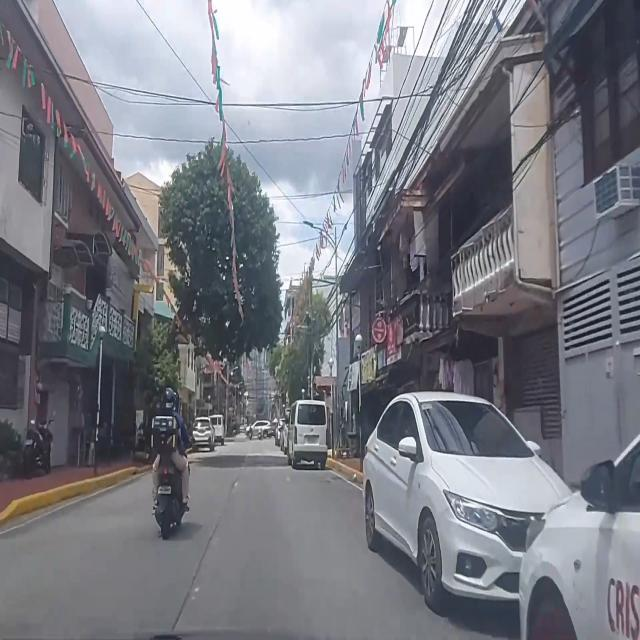car: (362, 390, 574, 610), (518, 430, 640, 640), (287, 400, 328, 470), (192, 417, 215, 452), (245, 421, 272, 438)
motorcycle: (152, 388, 194, 540), (24, 409, 56, 477), (258, 424, 262, 440), (249, 424, 252, 438)
